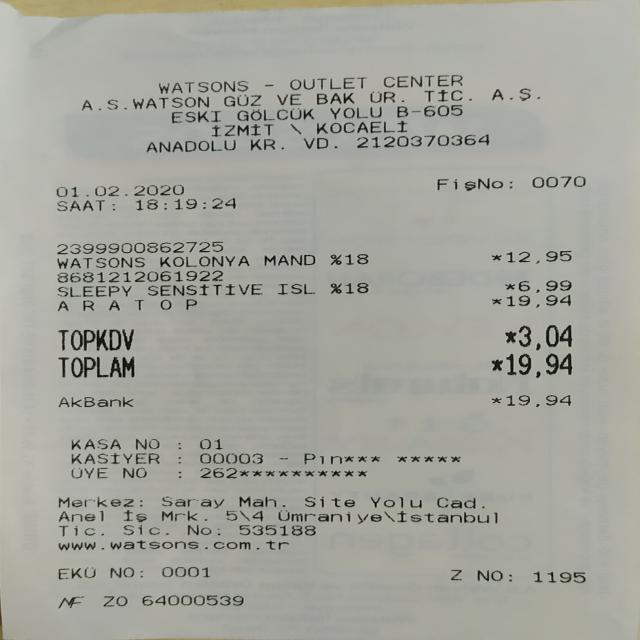text: (59, 537, 288, 552), (56, 240, 222, 253), (56, 269, 222, 282), (279, 508, 380, 527), (355, 133, 488, 147), (402, 509, 504, 527), (57, 354, 133, 378), (57, 327, 132, 351), (146, 282, 261, 297), (80, 97, 210, 110), (289, 120, 406, 134), (513, 351, 572, 377), (56, 184, 183, 196), (148, 137, 236, 153), (157, 78, 248, 93), (141, 593, 243, 606), (56, 255, 144, 270), (70, 451, 158, 466), (135, 197, 235, 210), (288, 74, 367, 90), (158, 254, 248, 268), (237, 106, 313, 122), (238, 522, 314, 538), (381, 72, 462, 87), (526, 323, 572, 348), (59, 494, 134, 509), (58, 394, 132, 409), (57, 283, 130, 298), (505, 249, 570, 265), (436, 176, 503, 191), (505, 293, 570, 308), (210, 122, 273, 137), (200, 451, 262, 466), (161, 494, 223, 509), (506, 393, 570, 407), (56, 298, 119, 312), (490, 85, 540, 102), (329, 104, 381, 120), (262, 252, 314, 268), (533, 568, 584, 584), (532, 174, 586, 189), (170, 108, 220, 124), (134, 298, 198, 310), (370, 494, 421, 509), (70, 436, 120, 451), (304, 494, 354, 509), (423, 86, 462, 105), (518, 278, 570, 292), (160, 507, 198, 526), (315, 89, 354, 107), (58, 509, 103, 524), (56, 198, 104, 212), (223, 92, 262, 109), (423, 102, 462, 119), (161, 565, 208, 578), (276, 280, 314, 296), (122, 522, 160, 538), (200, 466, 236, 482), (304, 451, 341, 466), (438, 496, 477, 510), (67, 466, 109, 479), (240, 493, 276, 508), (58, 523, 94, 538), (58, 566, 94, 580), (368, 88, 395, 106), (249, 135, 275, 152), (276, 90, 300, 108), (302, 134, 328, 150), (122, 508, 148, 524), (343, 251, 368, 267), (478, 568, 501, 584), (491, 351, 505, 377), (55, 595, 83, 608), (345, 279, 367, 295), (123, 466, 145, 482), (109, 565, 133, 579), (99, 595, 127, 607), (136, 436, 158, 451), (200, 436, 222, 451), (504, 323, 517, 348), (187, 524, 209, 537), (384, 508, 395, 526), (396, 103, 408, 119), (329, 251, 341, 267), (263, 75, 273, 93), (329, 280, 341, 295), (204, 508, 214, 525), (228, 508, 238, 525), (255, 508, 265, 525), (410, 103, 420, 119), (490, 249, 500, 265), (492, 293, 502, 309), (242, 508, 251, 525), (504, 278, 514, 293), (491, 393, 501, 407), (451, 567, 460, 582), (279, 451, 287, 466), (136, 496, 144, 509), (279, 494, 285, 509), (400, 87, 404, 106), (467, 86, 471, 104), (139, 568, 145, 579), (332, 134, 336, 150), (509, 174, 513, 190), (280, 134, 283, 152), (481, 500, 486, 510), (111, 196, 114, 212), (100, 527, 104, 539), (217, 522, 220, 538), (177, 436, 180, 451), (177, 454, 180, 465), (178, 466, 180, 482), (165, 528, 168, 538), (509, 568, 511, 583)
